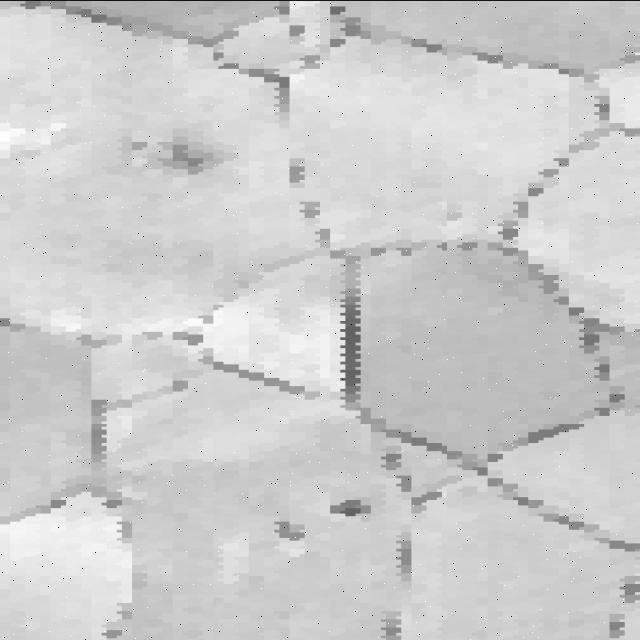good_void: (328, 284, 370, 404), (126, 136, 221, 177), (264, 513, 309, 542), (323, 494, 372, 519), (622, 576, 639, 598)
